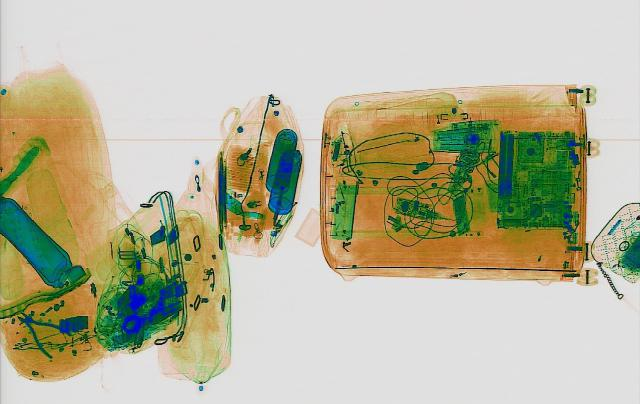Pliers: (0, 303, 86, 359)
